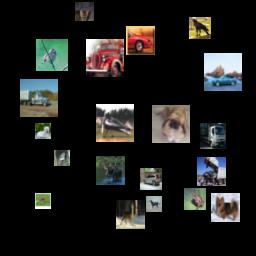airplane: (96, 104, 134, 142)
automobile: (204, 53, 242, 91), (126, 26, 155, 55), (140, 168, 162, 190)
bird: (36, 39, 68, 71), (189, 17, 211, 39), (54, 150, 70, 166), (35, 193, 51, 209)
cat: (75, 2, 94, 21)
deer: (96, 156, 125, 185), (116, 200, 145, 229)
dog: (152, 105, 190, 143), (211, 193, 240, 222), (146, 196, 162, 212), (35, 123, 51, 139)
frog: (184, 188, 206, 210)
truck: (86, 39, 124, 77), (20, 79, 58, 117), (197, 157, 226, 186), (200, 123, 226, 149)
